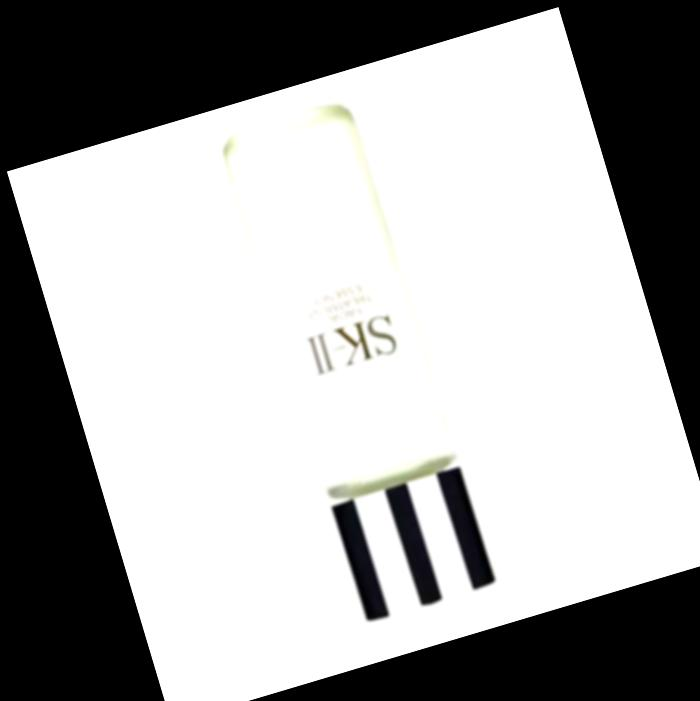cosmetic: (211, 93, 497, 622)
